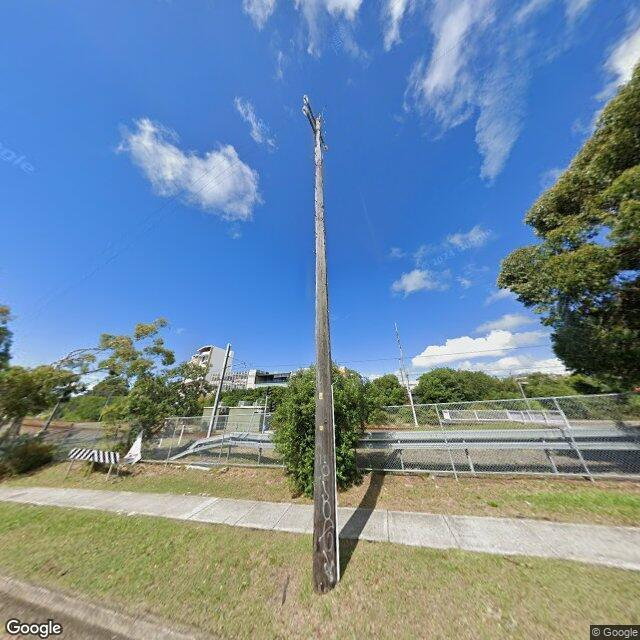HV-transmission: (302, 93, 329, 152)
crossarm: (308, 104, 324, 146), (306, 112, 316, 139)
timber-pole: (312, 117, 341, 594)
